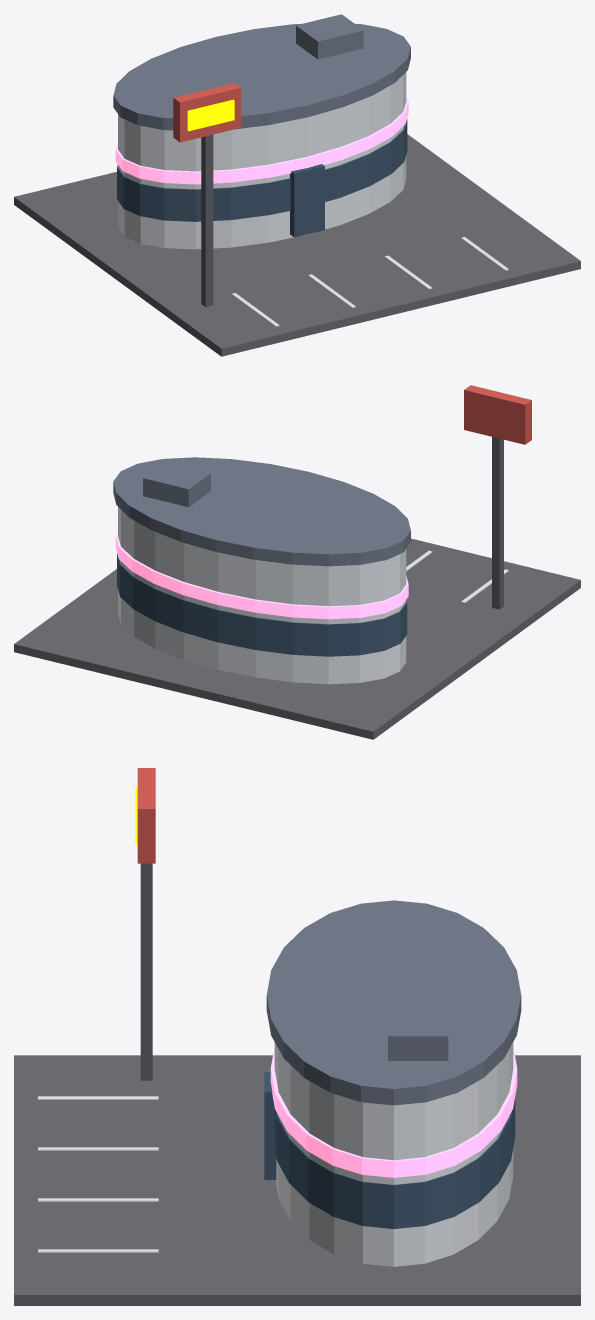
The model's file is diner.glb.
3 views of the same model, one above another, from view 1: azimuth 30°, elevation 25°; view 2: azimuth 150°, elevation 25°; view 3: azimuth 270°, elevation 25° (orthographic). The views are drawn at different scales.
Visible parts, largest first — view 1: diner_body; view 2: diner_body; view 3: diner_body.
Part boxes in pixels (x1,y1,x2,y2): diner_body: (14,14,580,356); diner_body: (14,385,580,739); diner_body: (14,768,580,1305).
Bounding box in the file's own units: 0.94 × 0.55 × 0.94.
